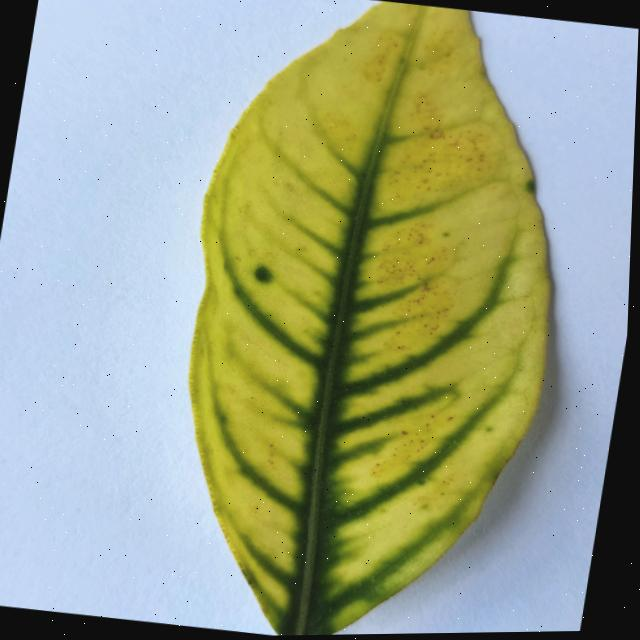greening: (189, 0, 548, 636)
